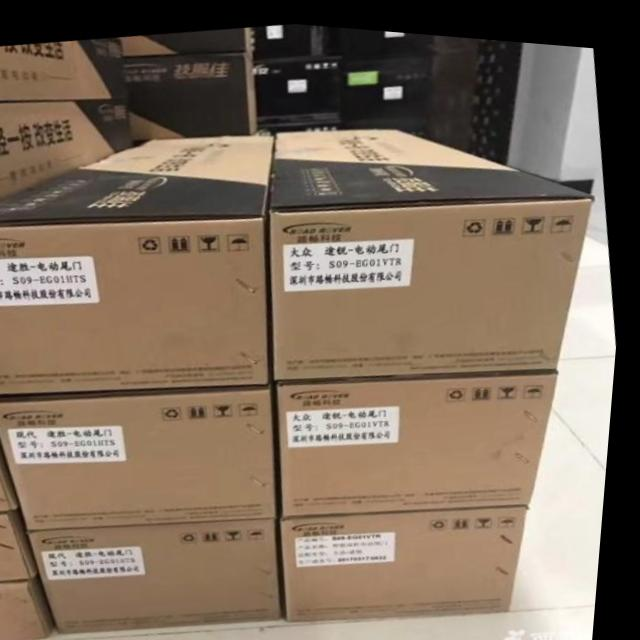box: (272, 122, 597, 377), (0, 130, 277, 395), (280, 363, 562, 513), (0, 386, 283, 531), (34, 512, 290, 630), (288, 497, 537, 617), (0, 98, 135, 193), (0, 39, 127, 100), (132, 85, 260, 143), (123, 48, 258, 96), (1, 570, 67, 640), (122, 23, 252, 53), (0, 509, 48, 583), (0, 444, 25, 512)
